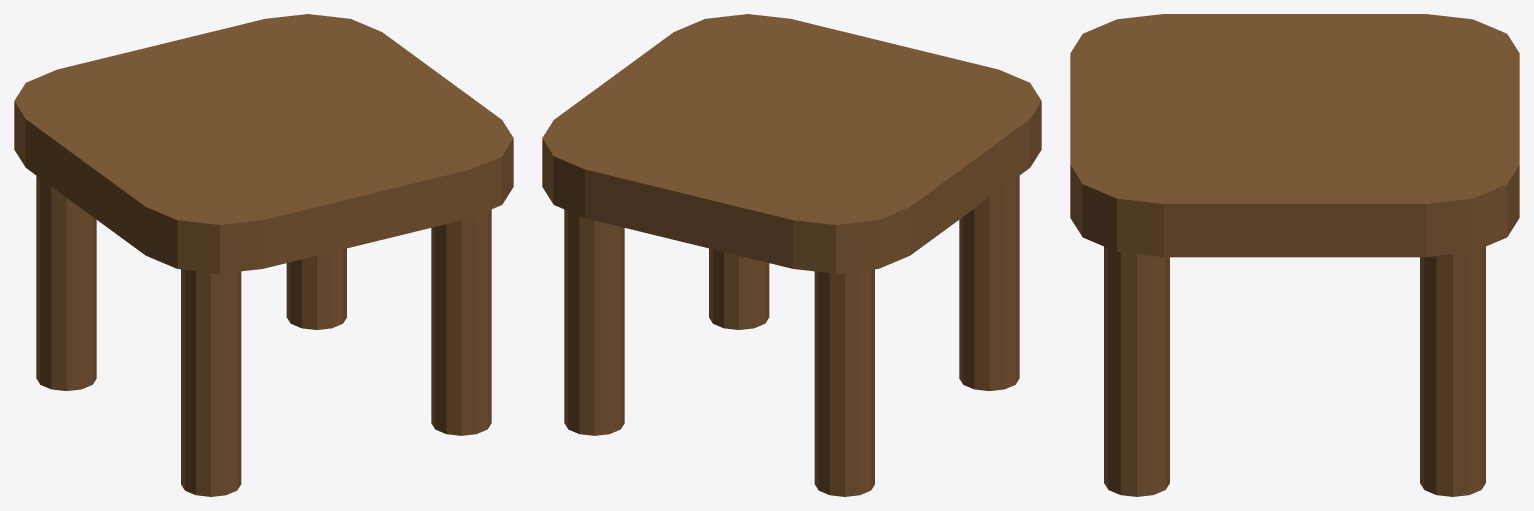
The model's file is ShortStoolBroken.fbx.
3 renders of one model, left to right at view 1: azimuth 30°, elevation 25°; view 2: azimuth 150°, elevation 25°; view 3: azimuth 270°, elevation 25°, orthographic. The views are drawn at different scales.
Parts seen in each view (by area): view 1: Cube, Legs, Legs_cell.005, Legs_cell.001, Legs_cell.004, Legs_cell.006, Legs_cell.002, Legs_cell.003; view 2: Cube, Legs, Legs_cell.001, Legs_cell.003, Legs_cell.002, Legs_cell, Legs_cell.005; view 3: Cube, Legs, Legs_cell.006, Legs_cell.005.
Part boxes in pixels (<box>): Cube: <box>14,14,513,273</box>; Legs: <box>36,176,491,496</box>; Legs_cell.005: <box>431,333,487,435</box>; Legs_cell.001: <box>36,176,96,389</box>; Legs_cell.004: <box>196,271,232,365</box>; Legs_cell.006: <box>431,210,491,342</box>; Legs_cell.002: <box>181,360,237,495</box>; Legs_cell.003: <box>181,269,195,362</box>; Cube: <box>542,14,1041,273</box>; Legs: <box>564,176,1019,496</box>; Legs_cell.001: <box>814,269,874,494</box>; Legs_cell.003: <box>963,178,1015,266</box>; Legs_cell.002: <box>959,255,1015,389</box>; Legs_cell: <box>572,213,618,432</box>; Legs_cell.005: <box>711,249,767,328</box>; Cube: <box>1070,14,1519,257</box>; Legs: <box>1104,246,1485,496</box>; Legs_cell.006: <box>1104,246,1169,402</box>; Legs_cell.005: <box>1104,384,1147,496</box>.
Size of the model in its own units: 2 by 1.51 by 2.
